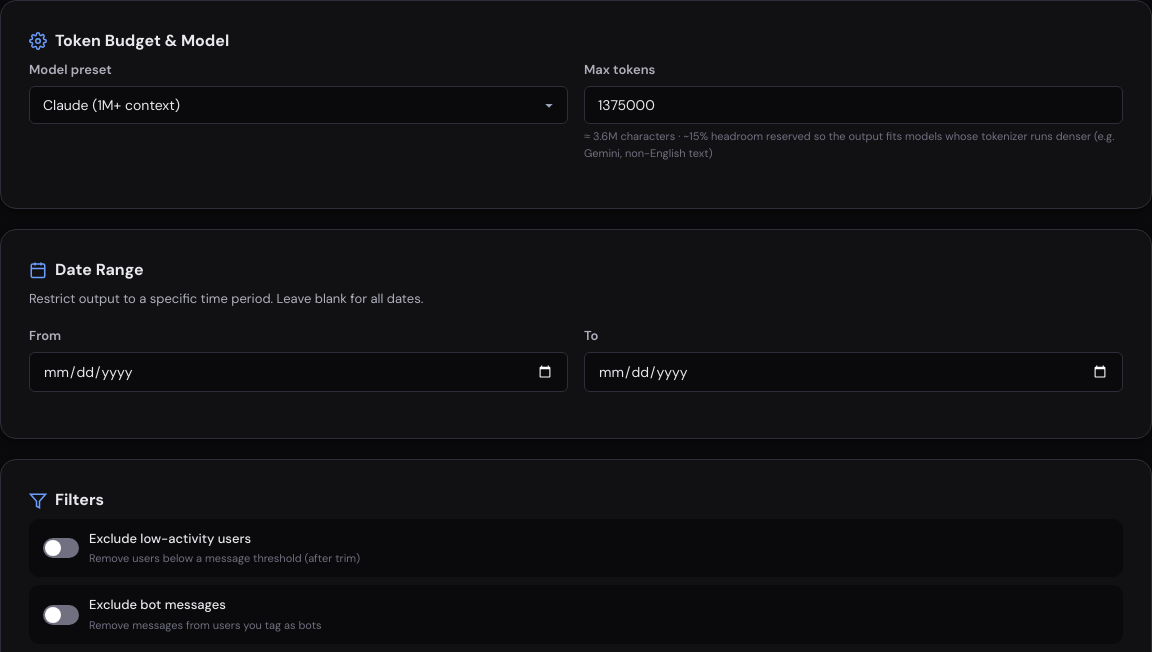
Test: Configure › reveals the minimum-messages input only when low-activity is on
The width and height of the screenshot is (1152, 652).
Click the switch "Exclude low-activity users".
click(61, 548)  # box [29,519,1123,578]
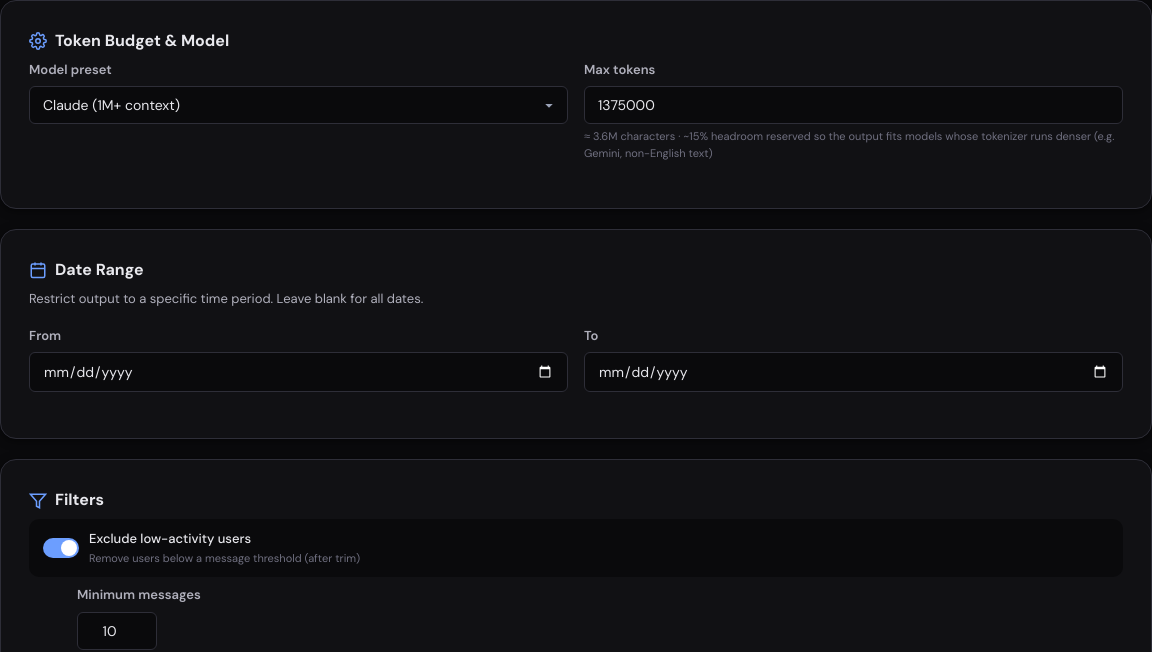
Now the number field with id "minMessages" is shown, box [77,612,157,650]
